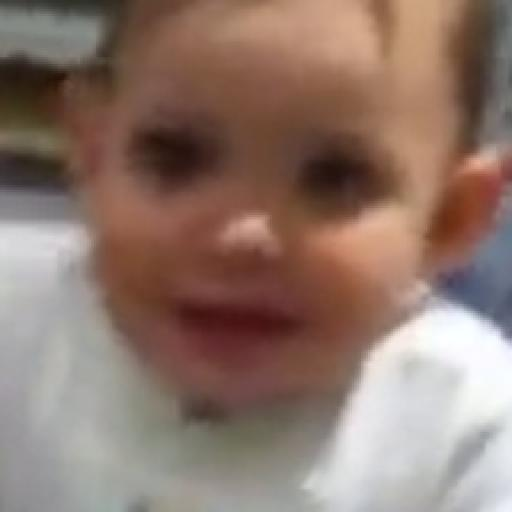Autism: (65, 6, 512, 449)
